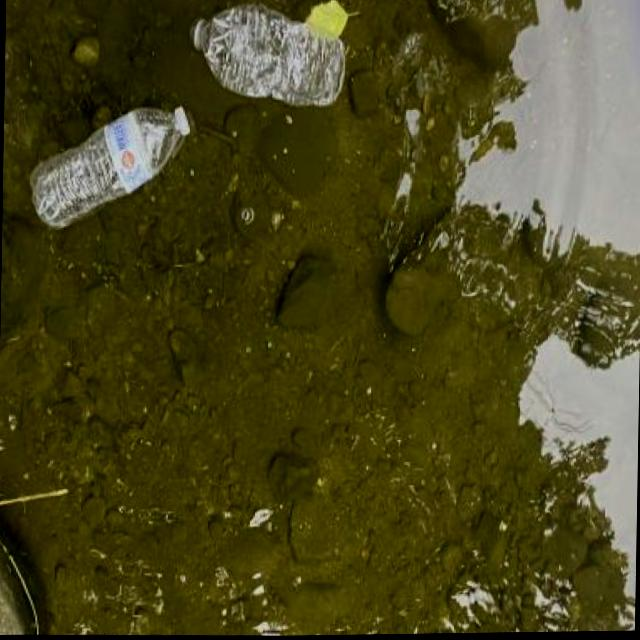Plastic: (21, 92, 199, 239), (185, 0, 354, 115)
